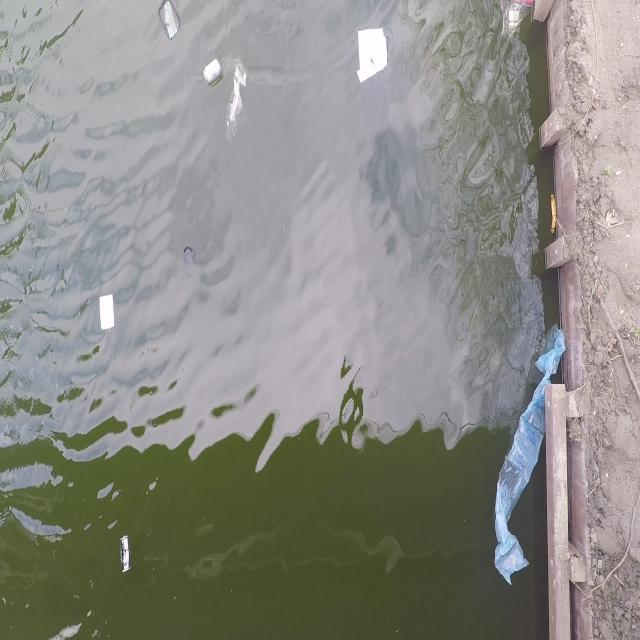Non plastique: (158, 3, 180, 38), (202, 55, 224, 85), (120, 534, 131, 574)
Sac plastique: (487, 326, 565, 587)
